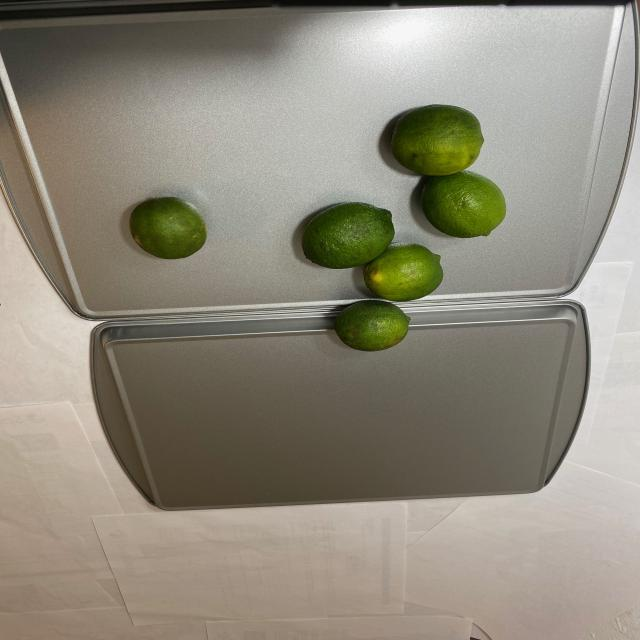lemon: (289, 96, 506, 357), (125, 192, 208, 262)
